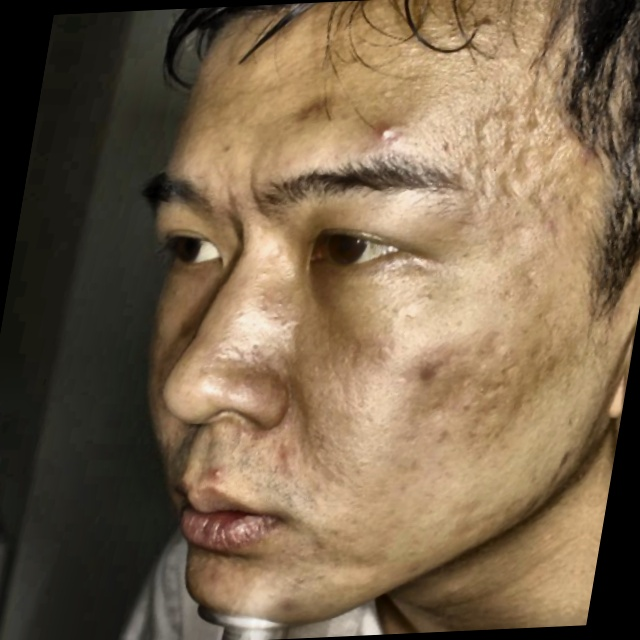comedone: (362, 118, 419, 150), (200, 459, 228, 492)
